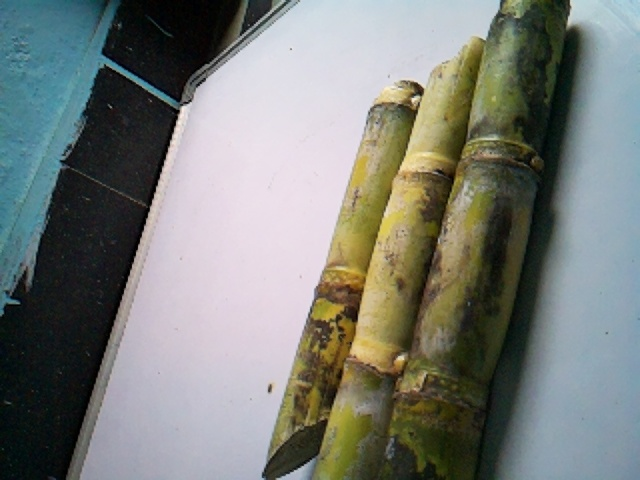Good Sugarcane: (381, 2, 574, 480), (313, 24, 484, 480), (256, 76, 423, 473)
Node: (378, 366, 490, 437), (328, 325, 416, 391), (452, 124, 546, 179), (383, 144, 465, 199), (304, 255, 377, 304)
